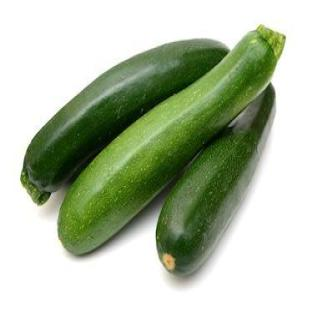Zucchini: (59, 27, 284, 254), (21, 40, 227, 203), (156, 84, 275, 274)
